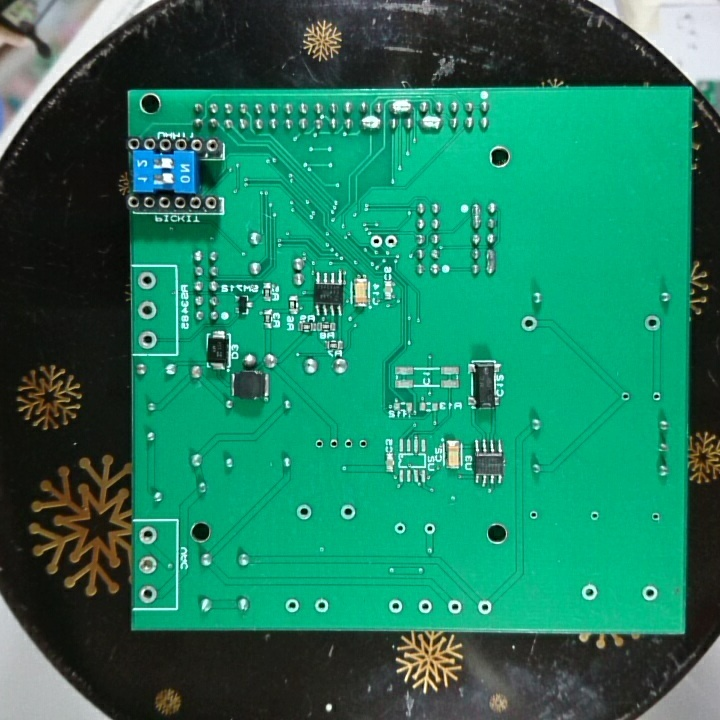F: (135, 299, 159, 323), (137, 553, 160, 578), (137, 524, 160, 548), (518, 312, 541, 336), (640, 312, 663, 335), (137, 329, 158, 351), (137, 583, 158, 605), (579, 580, 599, 603), (639, 581, 659, 604), (338, 502, 358, 523), (294, 502, 314, 522), (137, 270, 155, 292), (386, 596, 405, 616), (416, 598, 434, 617), (445, 598, 464, 616), (314, 595, 331, 615), (474, 598, 492, 616), (282, 596, 299, 615), (648, 387, 664, 407), (354, 435, 371, 453), (384, 231, 398, 252), (422, 519, 437, 538), (617, 387, 632, 406), (368, 232, 384, 249), (327, 435, 341, 454), (342, 432, 355, 452), (648, 509, 663, 526), (586, 508, 602, 523), (392, 520, 408, 535), (312, 436, 327, 452), (527, 508, 540, 522)
P: (482, 244, 499, 278), (357, 112, 384, 132), (388, 95, 414, 115), (417, 114, 444, 133), (468, 200, 482, 232)
